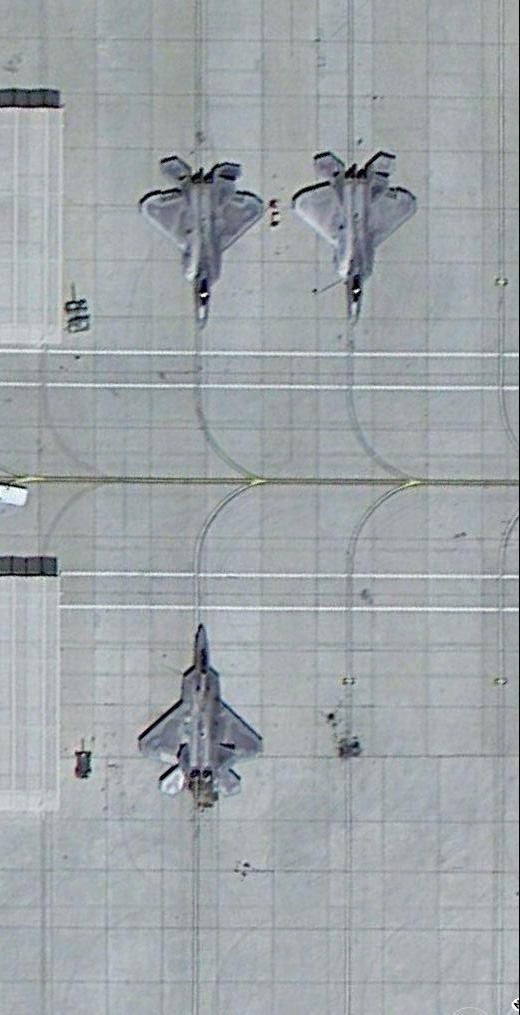F-22: (133, 614, 264, 818), (294, 138, 425, 327), (139, 148, 263, 336)
